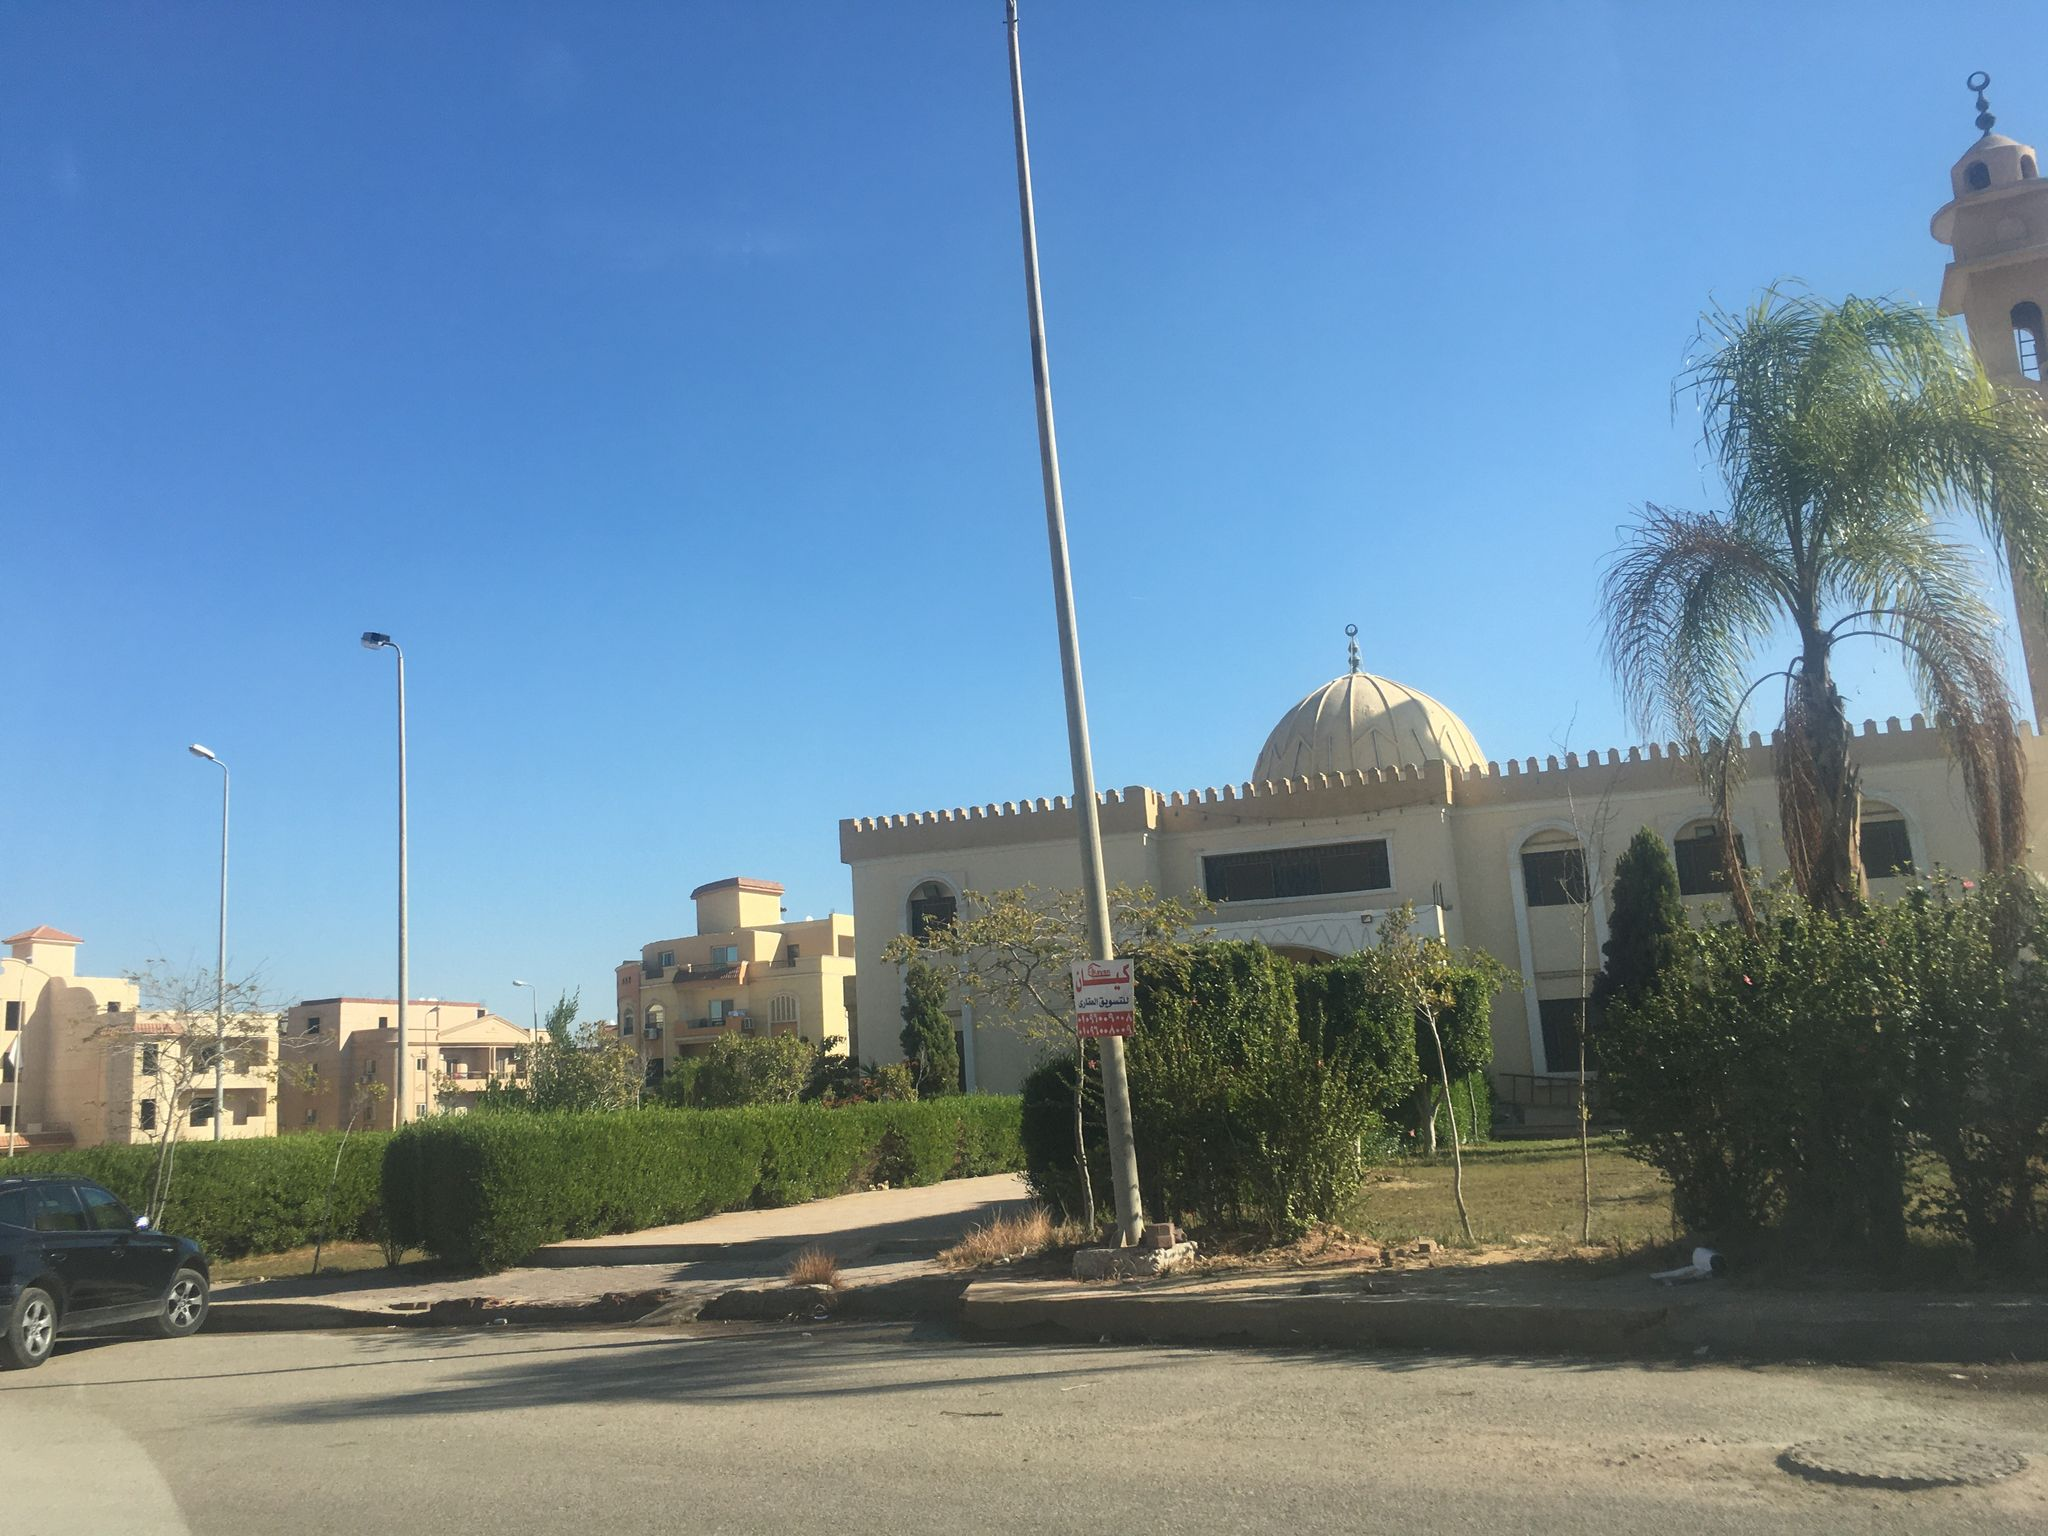car: (0, 1167, 213, 1375)
